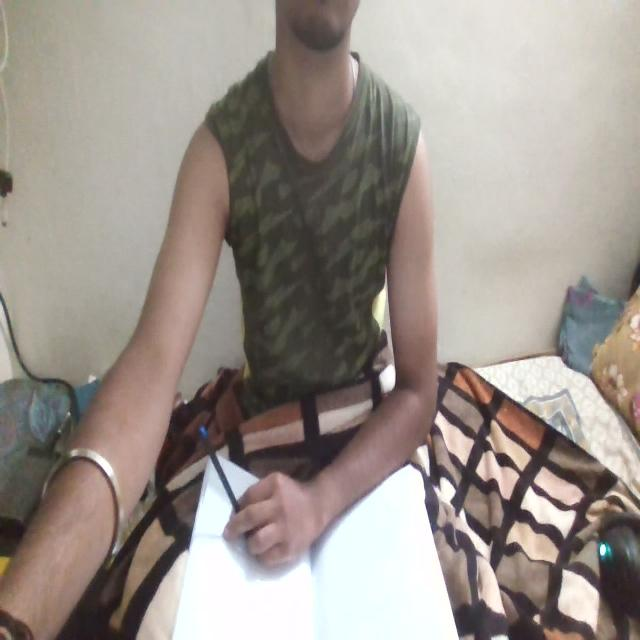pen: (188, 404, 260, 541)
